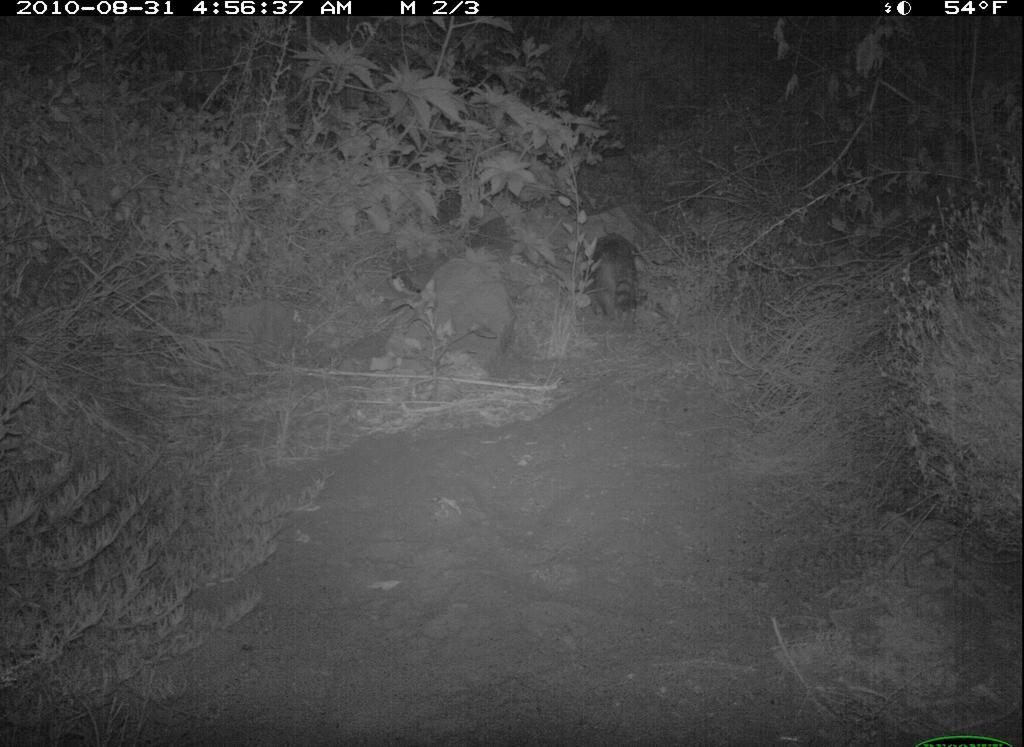raccoon: (579, 223, 655, 336)
